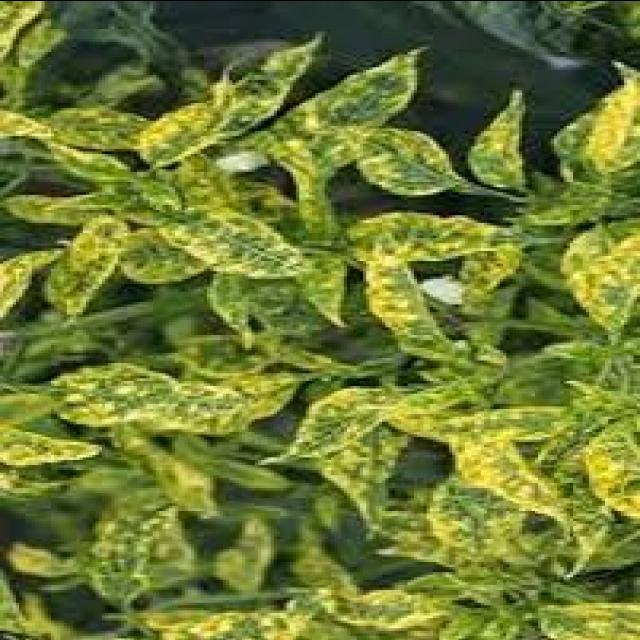virus_kuning: (427, 416, 581, 526), (355, 237, 459, 353), (328, 114, 462, 202), (270, 384, 400, 466)
